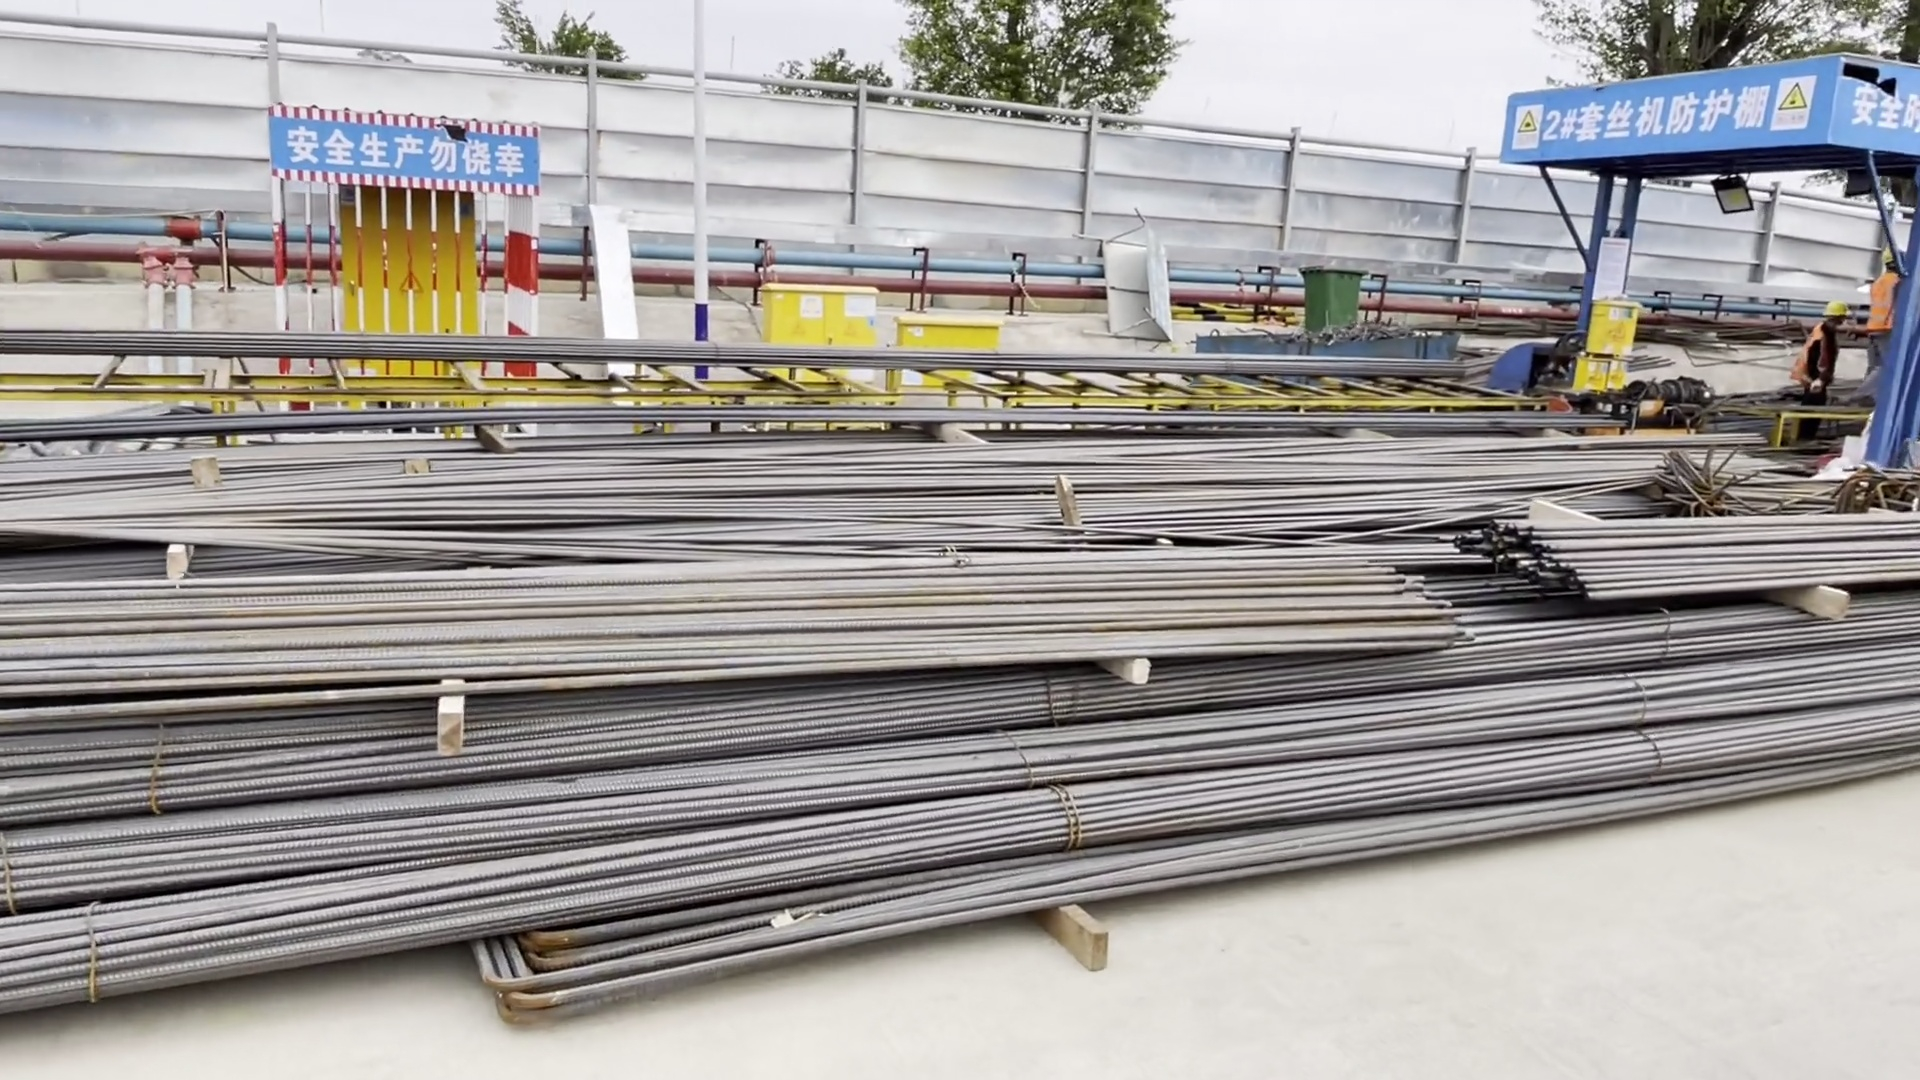ebox: (335, 185, 487, 371), (759, 275, 885, 353), (892, 309, 1005, 376), (1586, 300, 1641, 357), (1565, 359, 1634, 391)
fence: (535, 70, 1497, 251)
helmet: (1822, 299, 1845, 320), (1879, 246, 1901, 261)
hopper: (1193, 327, 1465, 375)
person: (1794, 288, 1853, 424), (1861, 250, 1913, 380)
rebar: (1, 480, 1920, 979)
slogan: (1517, 77, 1820, 143), (271, 119, 533, 183), (1841, 71, 1920, 144)
vest: (1798, 329, 1839, 389), (1865, 278, 1910, 334)
